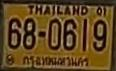0: (47, 18, 60, 49)
1: (82, 18, 86, 51)
6: (7, 17, 21, 48), (63, 18, 76, 50)
8: (22, 17, 36, 49)
9: (92, 20, 106, 50)
BKK: (21, 53, 91, 70)
